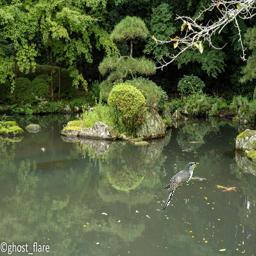Cuckoo: (162, 162, 199, 210)
